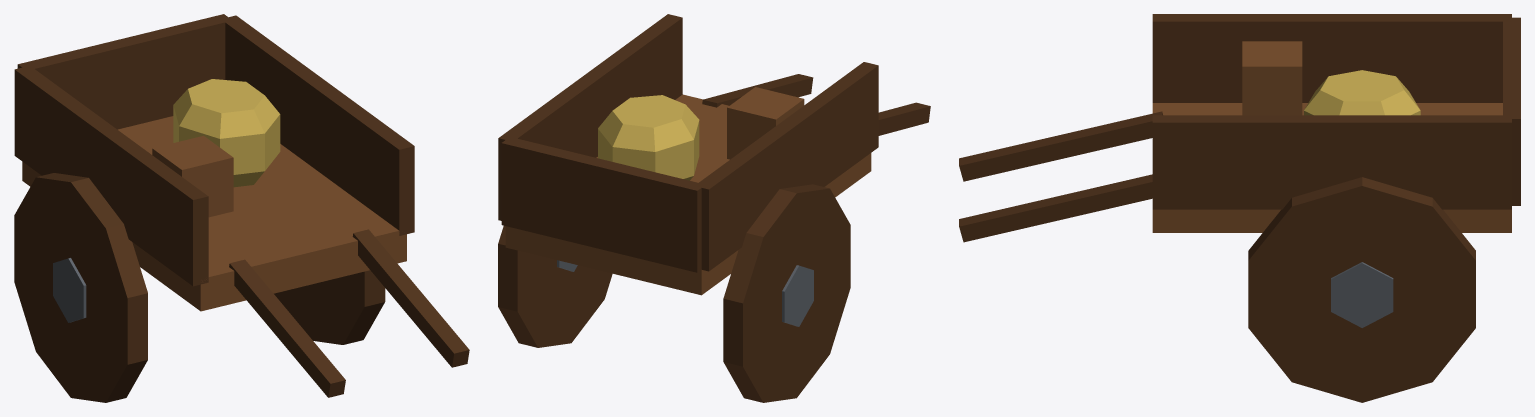
File: cart_broken.glb
3 views of the same model, side by side, from view 1: azimuth 30°, elevation 25°; view 2: azimuth 150°, elevation 25°; view 3: azimuth 270°, elevation 25° (orthographic). The views are drawn at different scales.
Visible parts, largest first — view 1: cart_piece7, cart_piece3, cart_piece5, cart_piece1, cart_piece4, cart_piece2, cart_piece6, cart_piece0; view 2: cart_piece7, cart_piece1, cart_piece3, cart_piece5, cart_piece2, cart_piece4, cart_piece0, cart_piece6; view 3: cart_piece1, cart_piece3, cart_piece4, cart_piece7, cart_piece6, cart_piece5.
Boxes of the visible parts, left/top/right/bottom form: cart_piece7: left=14, top=34, right=201, bottom=354; cart_piece3: left=119, top=135, right=345, bottom=397; cart_piece5: left=198, top=47, right=403, bottom=285; cart_piece1: left=142, top=14, right=377, bottom=344; cart_piece4: left=307, top=110, right=469, bottom=367; cart_piece2: left=57, top=134, right=202, bottom=402; cart_piece6: left=290, top=127, right=385, bottom=314; cart_piece0: left=31, top=338, right=69, bottom=379; cart_piece7: left=559, top=116, right=840, bottom=395; cart_piece1: left=498, top=108, right=709, bottom=347; cart_piece3: left=727, top=62, right=930, bottom=191; cart_piece5: left=540, top=16, right=737, bottom=166; cart_piece2: left=690, top=131, right=850, bottom=399; cart_piece4: left=609, top=14, right=813, bottom=114; cart_piece0: left=558, top=243, right=795, bottom=402; cart_piece6: left=580, top=113, right=609, bottom=158; cart_piece1: left=1262, top=70, right=1520, bottom=402; cart_piece3: left=959, top=14, right=1309, bottom=181; cart_piece4: left=959, top=117, right=1314, bottom=242; cart_piece7: left=1294, top=14, right=1520, bottom=115; cart_piece6: left=1248, top=136, right=1398, bottom=344; cart_piece5: left=1120, top=71, right=1424, bottom=181.
Size of the model in its own units: 0.51 by 0.5 by 0.9383.
